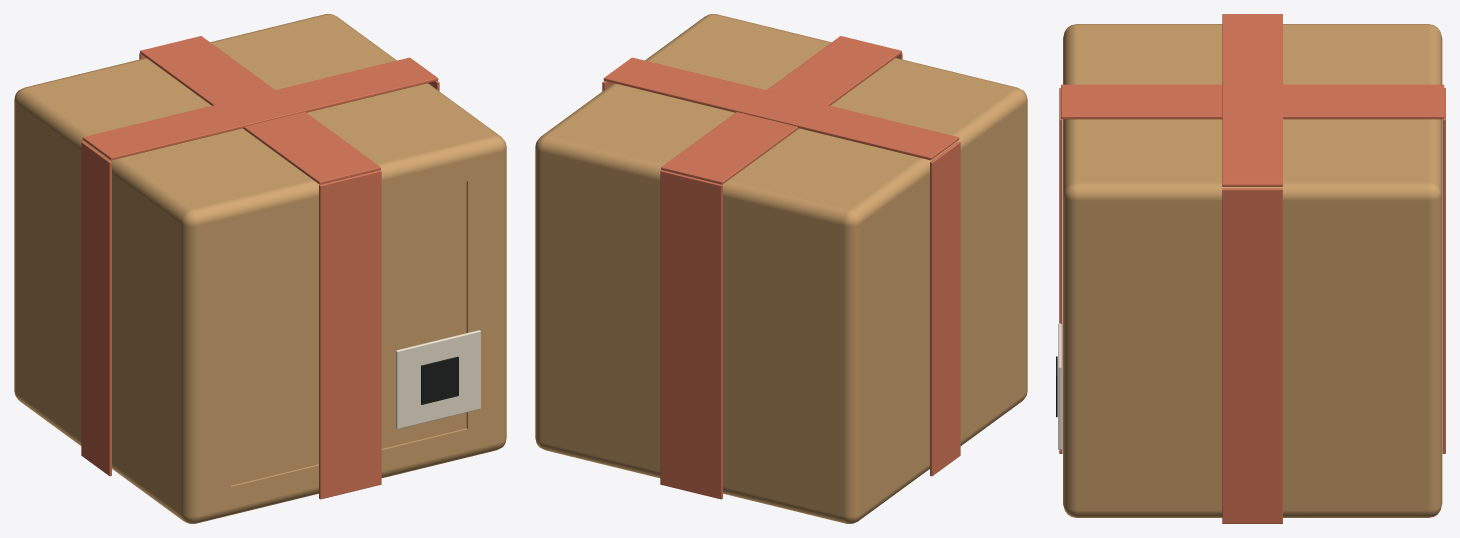
The model's file is play-parcel-large-coral.glb.
3 renders of one model, left to right at view 1: azimuth 30°, elevation 25°; view 2: azimuth 150°, elevation 25°; view 3: azimuth 270°, elevation 25°, orthographic. The views are drawn at different scales.
Parts seen in each view (by area): view 1: Parcel_Carton, Parcel_Tape_Front_Back_0095, Parcel_Tape_Top_Cross, Parcel_Tape_Sides_-01, Parcel_Tape_Top_Length, Parcel_Paper_Label, Parcel_Label_Square; view 2: Parcel_Carton, Parcel_Tape_Front_Back_-0095, Parcel_Tape_Top_Cross, Parcel_Tape_Sides_-01, Parcel_Tape_Top_Length; view 3: Parcel_Carton, Parcel_Tape_Sides_01, Parcel_Tape_Top_Length, Parcel_Tape_Top_Cross, Parcel_Tape_Front_Back_-0095, Parcel_Tape_Front_Back_0095, Parcel_Paper_Label.
Boxes of the visible parts, x1,y1,x2,y2 form: Parcel_Carton: (14,14,506,523); Parcel_Tape_Front_Back_0095: (319,170,381,499); Parcel_Tape_Top_Cross: (82,57,438,160); Parcel_Tape_Sides_-01: (81,141,111,476); Parcel_Tape_Top_Length: (140,36,380,184); Parcel_Paper_Label: (395,330,480,429); Parcel_Label_Square: (421,356,458,404); Parcel_Carton: (535,14,1027,523); Parcel_Tape_Front_Back_-0095: (660,170,722,499); Parcel_Tape_Top_Cross: (603,57,959,160); Parcel_Tape_Sides_-01: (930,141,960,476); Parcel_Tape_Top_Length: (661,36,901,184); Parcel_Carton: (1063,24,1442,517); Parcel_Tape_Sides_01: (1222,188,1282,523); Parcel_Tape_Top_Length: (1061,84,1444,119); Parcel_Tape_Top_Cross: (1222,14,1282,186); Parcel_Tape_Front_Back_-0095: (1442,88,1445,453); Parcel_Tape_Front_Back_0095: (1059,88,1062,453); Parcel_Paper_Label: (1058,323,1061,450).
Size of the model in its own units: 0.2037 by 0.1877 by 0.1954.
